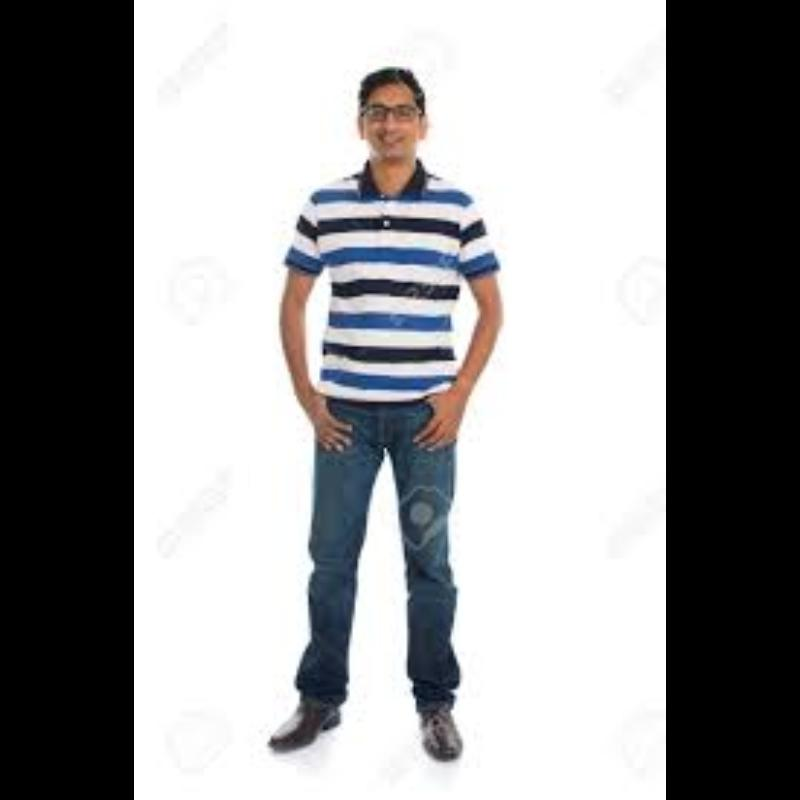Jeans: (277, 392, 539, 711)
Tshirt: (261, 152, 565, 420)
